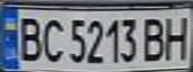1: (103, 16, 124, 64)
2: (84, 16, 106, 65)
3: (118, 16, 142, 64)
5: (63, 15, 87, 64)
B: (12, 14, 45, 62), (139, 15, 169, 62)
C: (39, 15, 66, 63)
H: (160, 12, 193, 61)
